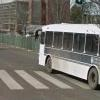Crosswalk: (1, 64, 66, 99)
